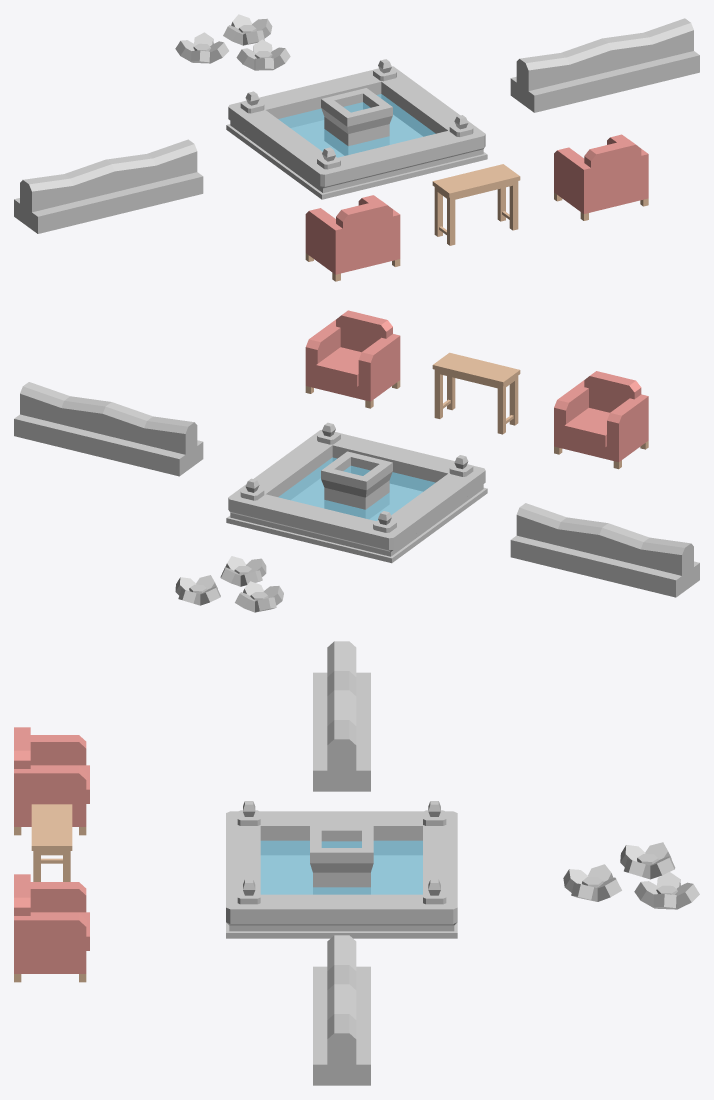
File: combo-quiet-garden.glb
The picture shows the model from 3 angles, top to bottom: view 1: azimuth 30°, elevation 25°; view 2: azimuth 150°, elevation 25°; view 3: azimuth 270°, elevation 25°; orthographic projection. The views are drawn at different scales.
Visible parts, largest first — view 1: 00_asset-014, 01_asset-053, 02_asset-053, 03_asset-029, 04_asset-029, 05_asset-030, 06_asset-052; view 2: 00_asset-014, 01_asset-053, 02_asset-053, 04_asset-029, 03_asset-029, 05_asset-030, 06_asset-052; view 3: 00_asset-014, 01_asset-053, 02_asset-053, 04_asset-029, 03_asset-029, 06_asset-052, 05_asset-030.
Part boxes in pixels (bbox=[...]): 00_asset-014: bbox=[226, 59, 487, 199]; 01_asset-053: bbox=[14, 139, 203, 233]; 02_asset-053: bbox=[510, 18, 699, 112]; 03_asset-029: bbox=[305, 195, 400, 281]; 04_asset-029: bbox=[554, 134, 648, 220]; 05_asset-030: bbox=[432, 164, 520, 245]; 06_asset-052: bbox=[175, 14, 290, 70]; 00_asset-014: bbox=[226, 422, 487, 563]; 01_asset-053: bbox=[510, 503, 699, 597]; 02_asset-053: bbox=[14, 382, 203, 476]; 04_asset-029: bbox=[305, 310, 400, 408]; 03_asset-029: bbox=[554, 371, 648, 469]; 05_asset-030: bbox=[432, 352, 520, 434]; 06_asset-052: bbox=[175, 556, 283, 612]; 00_asset-014: bbox=[226, 801, 457, 938]; 01_asset-053: bbox=[313, 641, 370, 791]; 02_asset-053: bbox=[313, 935, 370, 1085]; 04_asset-029: bbox=[14, 874, 89, 982]; 03_asset-029: bbox=[14, 727, 89, 835]; 06_asset-052: bbox=[563, 842, 699, 909]; 05_asset-030: bbox=[31, 804, 72, 881].
Bounding box in the file's own units: 8 × 0.736 × 5.92.
